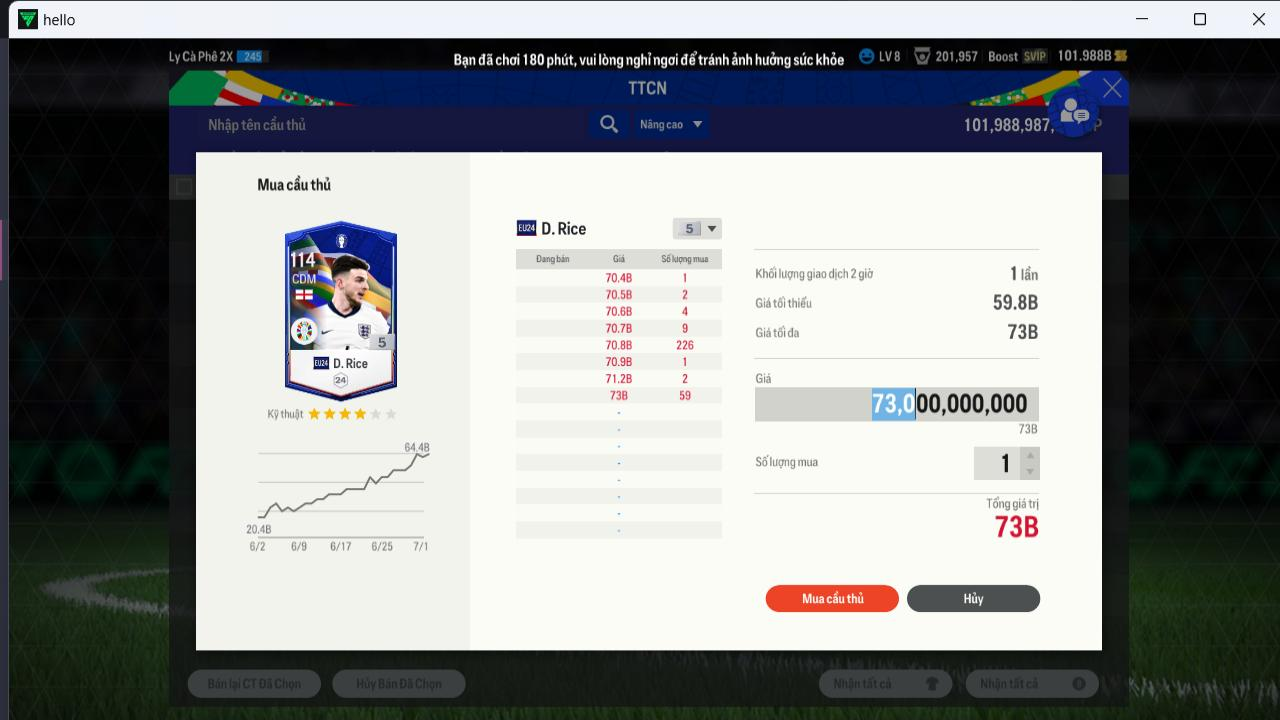buttonhuy: (908, 585, 1038, 611)
buttonmua: (766, 584, 899, 614)
max: (986, 322, 1052, 348)
min: (986, 286, 1044, 316)
